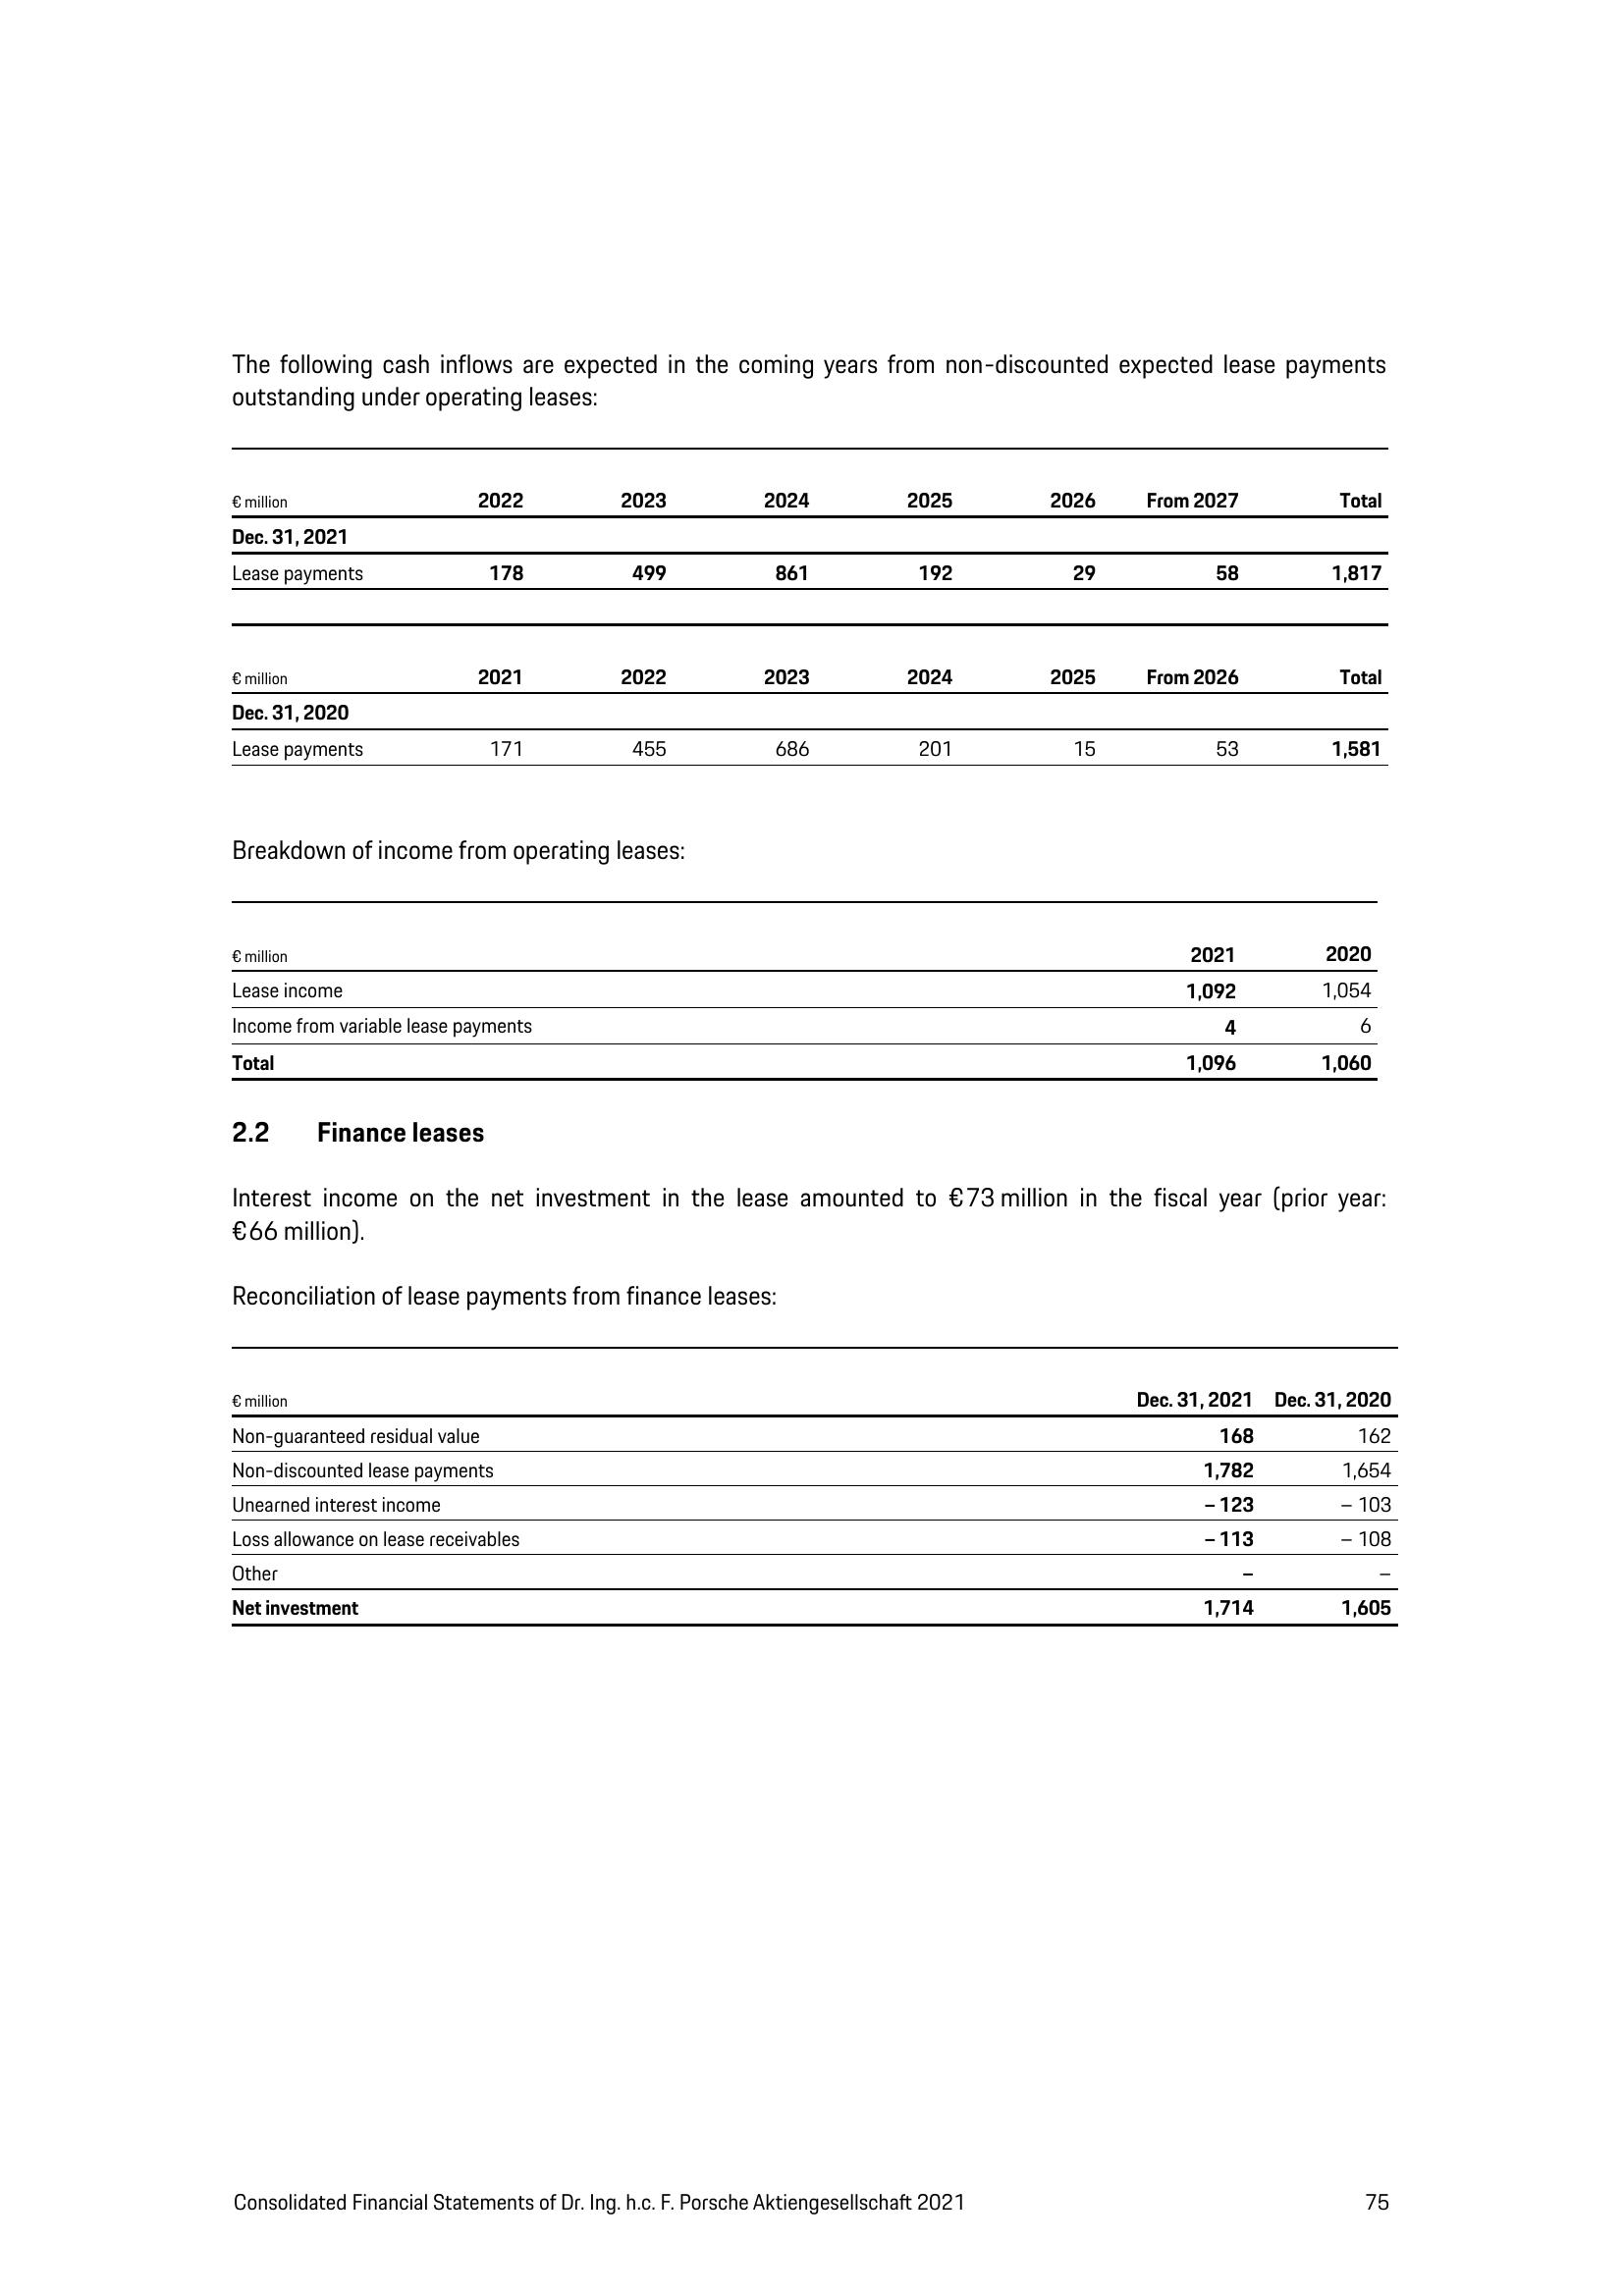Footer: (0, 2152, 1624, 2296)
Header: (0, 0, 1624, 241)
Table: (207, 434, 1411, 775), (204, 1330, 1410, 1643), (195, 887, 1417, 1086)
